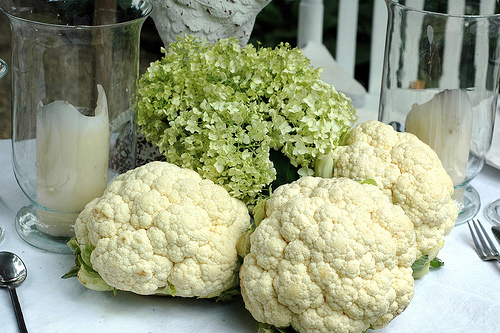cauliflower: (239, 173, 419, 332), (60, 159, 251, 298), (310, 117, 452, 268)
